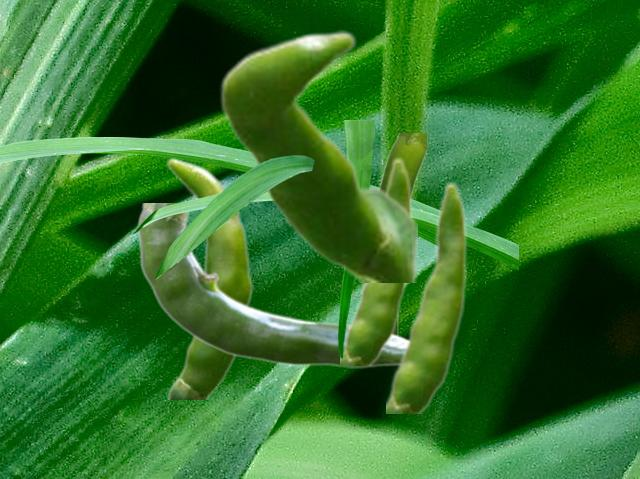green_chili: (219, 30, 416, 281), (137, 203, 406, 367), (165, 158, 253, 398), (386, 180, 467, 412), (340, 156, 412, 364), (379, 133, 425, 333)
